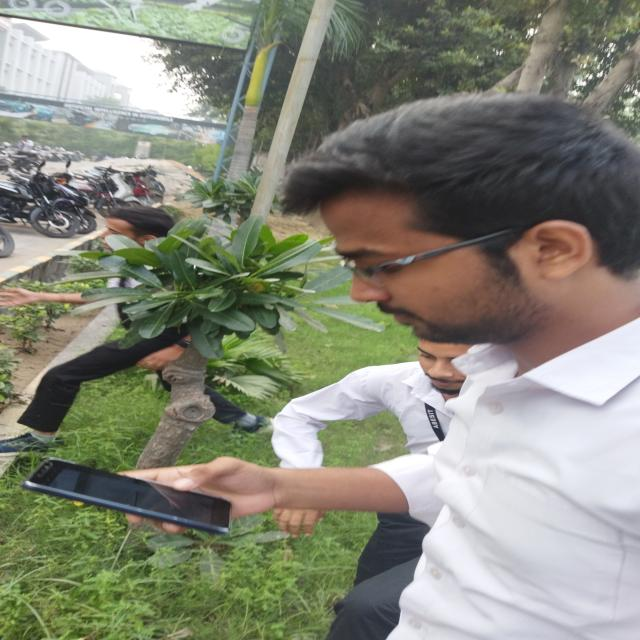unsafe: (277, 93, 640, 640)
